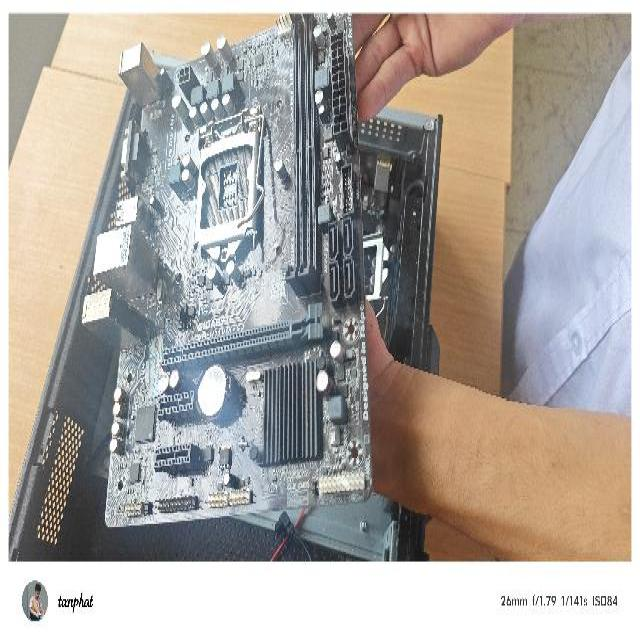Mainboard: (94, 10, 391, 534)
